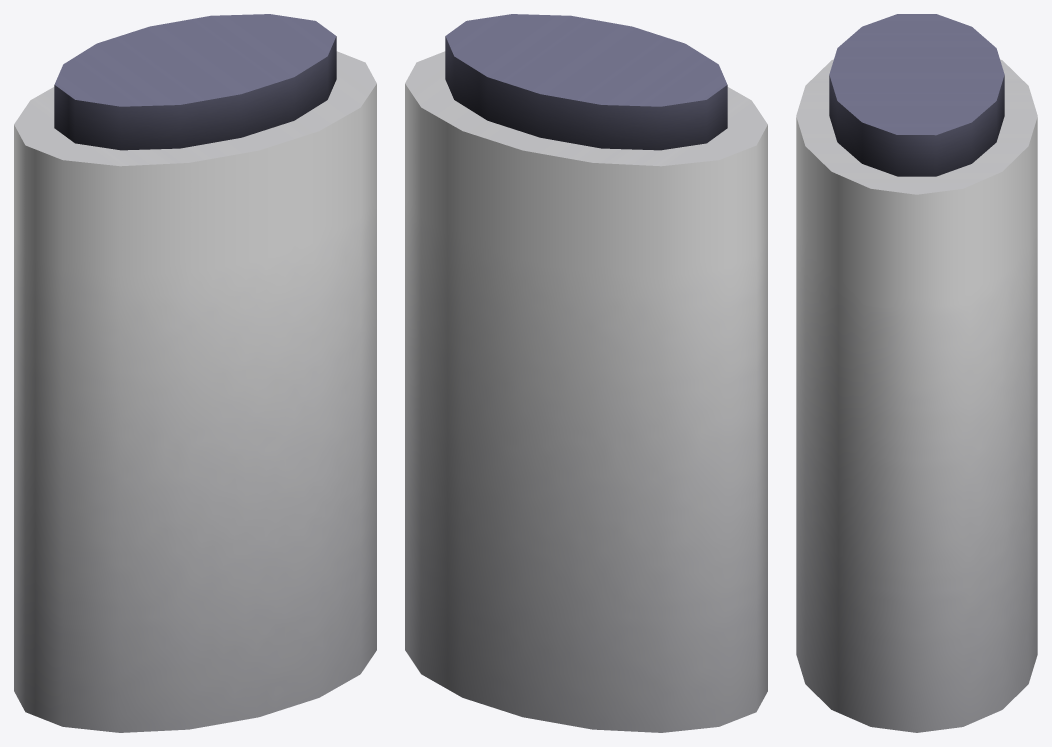
File: m_ArtificialSweetenerDispenser01.fbx
3 renders of one model, left to right at view 1: azimuth 30°, elevation 25°; view 2: azimuth 150°, elevation 25°; view 3: azimuth 270°, elevation 25°, orthographic. The views are drawn at different scales.
Visible parts, largest first — view 1: m_ArtificialSweetenerDispenser01; view 2: m_ArtificialSweetenerDispenser01; view 3: m_ArtificialSweetenerDispenser01.
Part boxes in pixels (x1,y1,x2,y2): m_ArtificialSweetenerDispenser01: [14, 14, 376, 732]; m_ArtificialSweetenerDispenser01: [405, 14, 767, 732]; m_ArtificialSweetenerDispenser01: [796, 14, 1037, 732].
Bounding box in the file's own units: 8.16 × 14 × 5.29.
